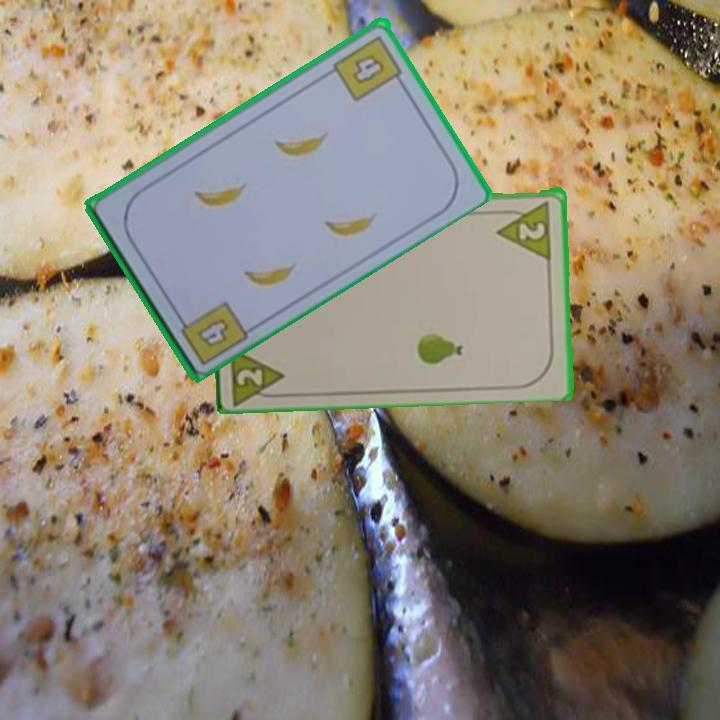2p: (227, 339, 290, 404), (515, 217, 548, 242)
4b: (330, 31, 408, 104), (193, 314, 232, 350)
